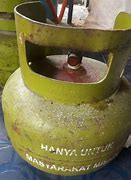gas_ijo: (3, 3, 130, 177)
